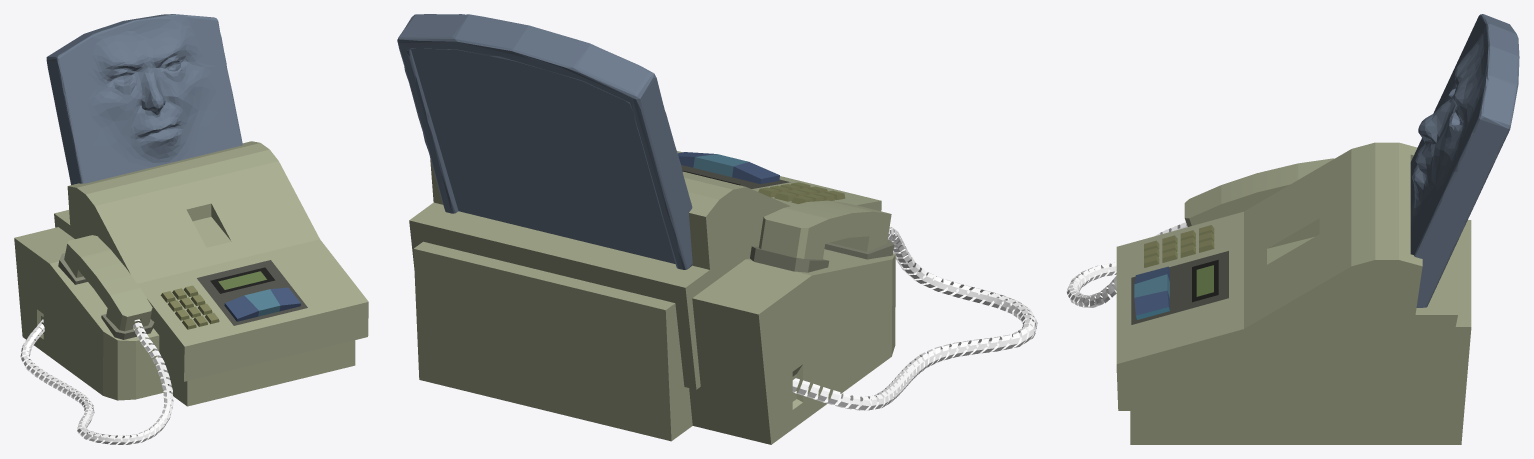
The model's file is faxMachine_mdl.fbx.
3 views of the same model, side by side, from view 1: azimuth 30°, elevation 25°; view 2: azimuth 150°, elevation 25°; view 3: azimuth 270°, elevation 25° (orthographic). The views are drawn at different scales.
Visible parts, largest first — view 1: faxMachine_geo; view 2: faxMachine_geo; view 3: faxMachine_geo.
Boxes of the visible parts, x1,y1,x2,y2 form: faxMachine_geo: (14,14,368,444); faxMachine_geo: (397,14,1037,444); faxMachine_geo: (1066,14,1519,444).
Size of the model in its own units: 0.8979 by 0.8065 by 0.9435.
